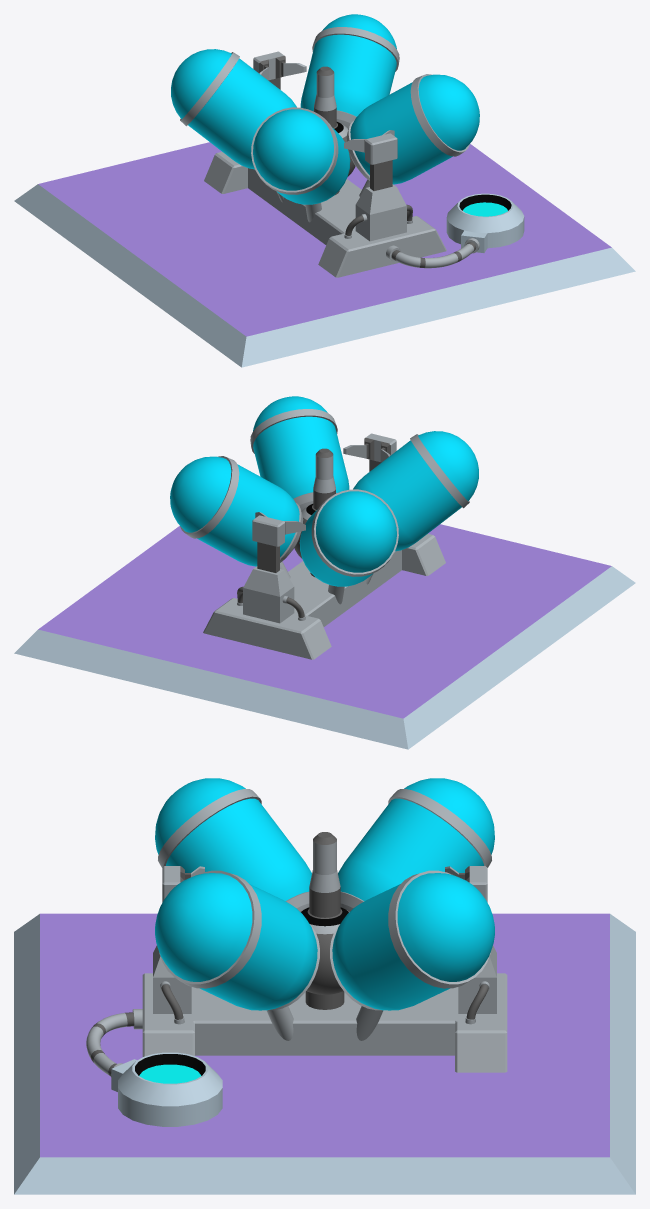
Rendered from Reservoir1.fbx.
3 views of the same model, one above another, from view 1: azimuth 30°, elevation 25°; view 2: azimuth 150°, elevation 25°; view 3: azimuth 270°, elevation 25° (orthographic). The views are drawn at different scales.
Visible parts, largest first — view 1: foundation_1, polySurface58, polySurface56, installation1, polySurface57, polySurface52, alch_beacon1, pCube173, pCube119 (×2), alch_base1, pCylinder135, element_1; view 2: foundation_1, polySurface52, polySurface57, installation1, polySurface56, polySurface58, pCube176, pCube119 (×2), pCylinder135; view 3: foundation_1, installation1, polySurface52, polySurface58, polySurface56, polySurface57, alch_beacon1, pCylinder135, pSphere28, alch_base1, pCube173, pCube176 (+4 smaller).
Boxes of the visible parts, <box> form: foundation_1: <box>14,142,635,367</box>; polySurface58: <box>346,74,479,184</box>; polySurface56: <box>171,49,296,169</box>; installation1: <box>204,152,446,277</box>; polySurface57: <box>251,107,350,204</box>; polySurface52: <box>300,14,399,128</box>; alch_beacon1: <box>446,193,524,252</box>; pCube173: <box>355,160,406,241</box>; pCube119 (×2): <box>253,51,397,164</box>; alch_base1: <box>386,238,479,268</box>; pCylinder135: <box>314,66,339,194</box>; element_1: <box>463,202,507,216</box>; foundation_1: <box>14,524,635,749</box>; polySurface52: <box>170,456,303,566</box>; polySurface57: <box>353,431,478,551</box>; installation1: <box>203,534,445,659</box>; polySurface56: <box>299,489,398,586</box>; polySurface58: <box>250,396,349,510</box>; pCube176: <box>243,542,294,623</box>; pCube119 (×2): <box>252,433,396,546</box>; pCylinder135: <box>310,448,335,576</box>; foundation_1: <box>14,913,635,1194</box>; installation1: <box>142,973,507,1072</box>; polySurface52: <box>330,870,494,1010</box>; polySurface58: <box>155,870,319,1010</box>; polySurface56: <box>338,778,494,911</box>; polySurface57: <box>155,778,311,911</box>; alch_beacon1: <box>111,1052,222,1126</box>; pCylinder135: <box>305,832,344,1009</box>; pSphere28: <box>300,907,349,994</box>; alch_base1: <box>86,1009,142,1076</box>; pCube173: <box>153,945,191,1013</box>; pCube176: <box>458,945,496,1013</box>.
Bounding box in the file's own units: 2 × 0.825 × 2.
